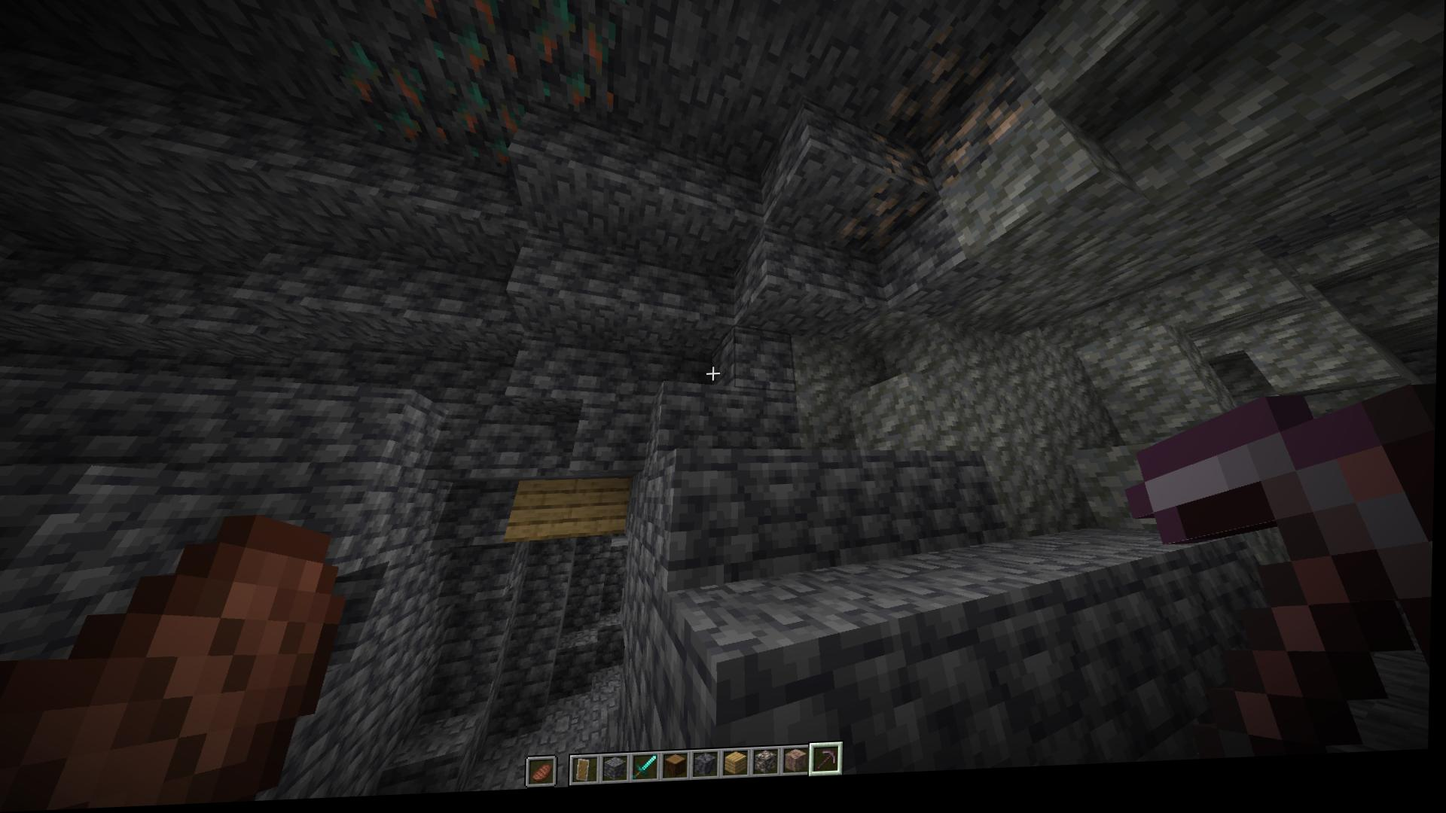iron ore: (938, 76, 1027, 190), (877, 38, 968, 128), (848, 187, 926, 265), (878, 146, 939, 200)
